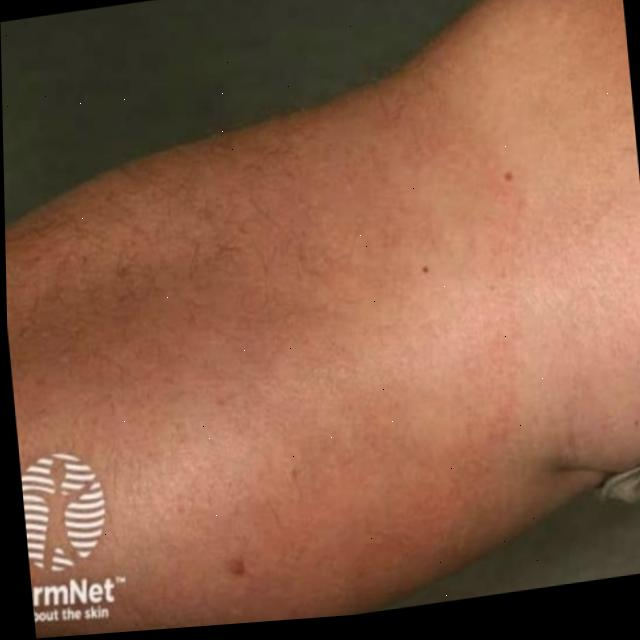Eczema: (73, 130, 501, 584)
